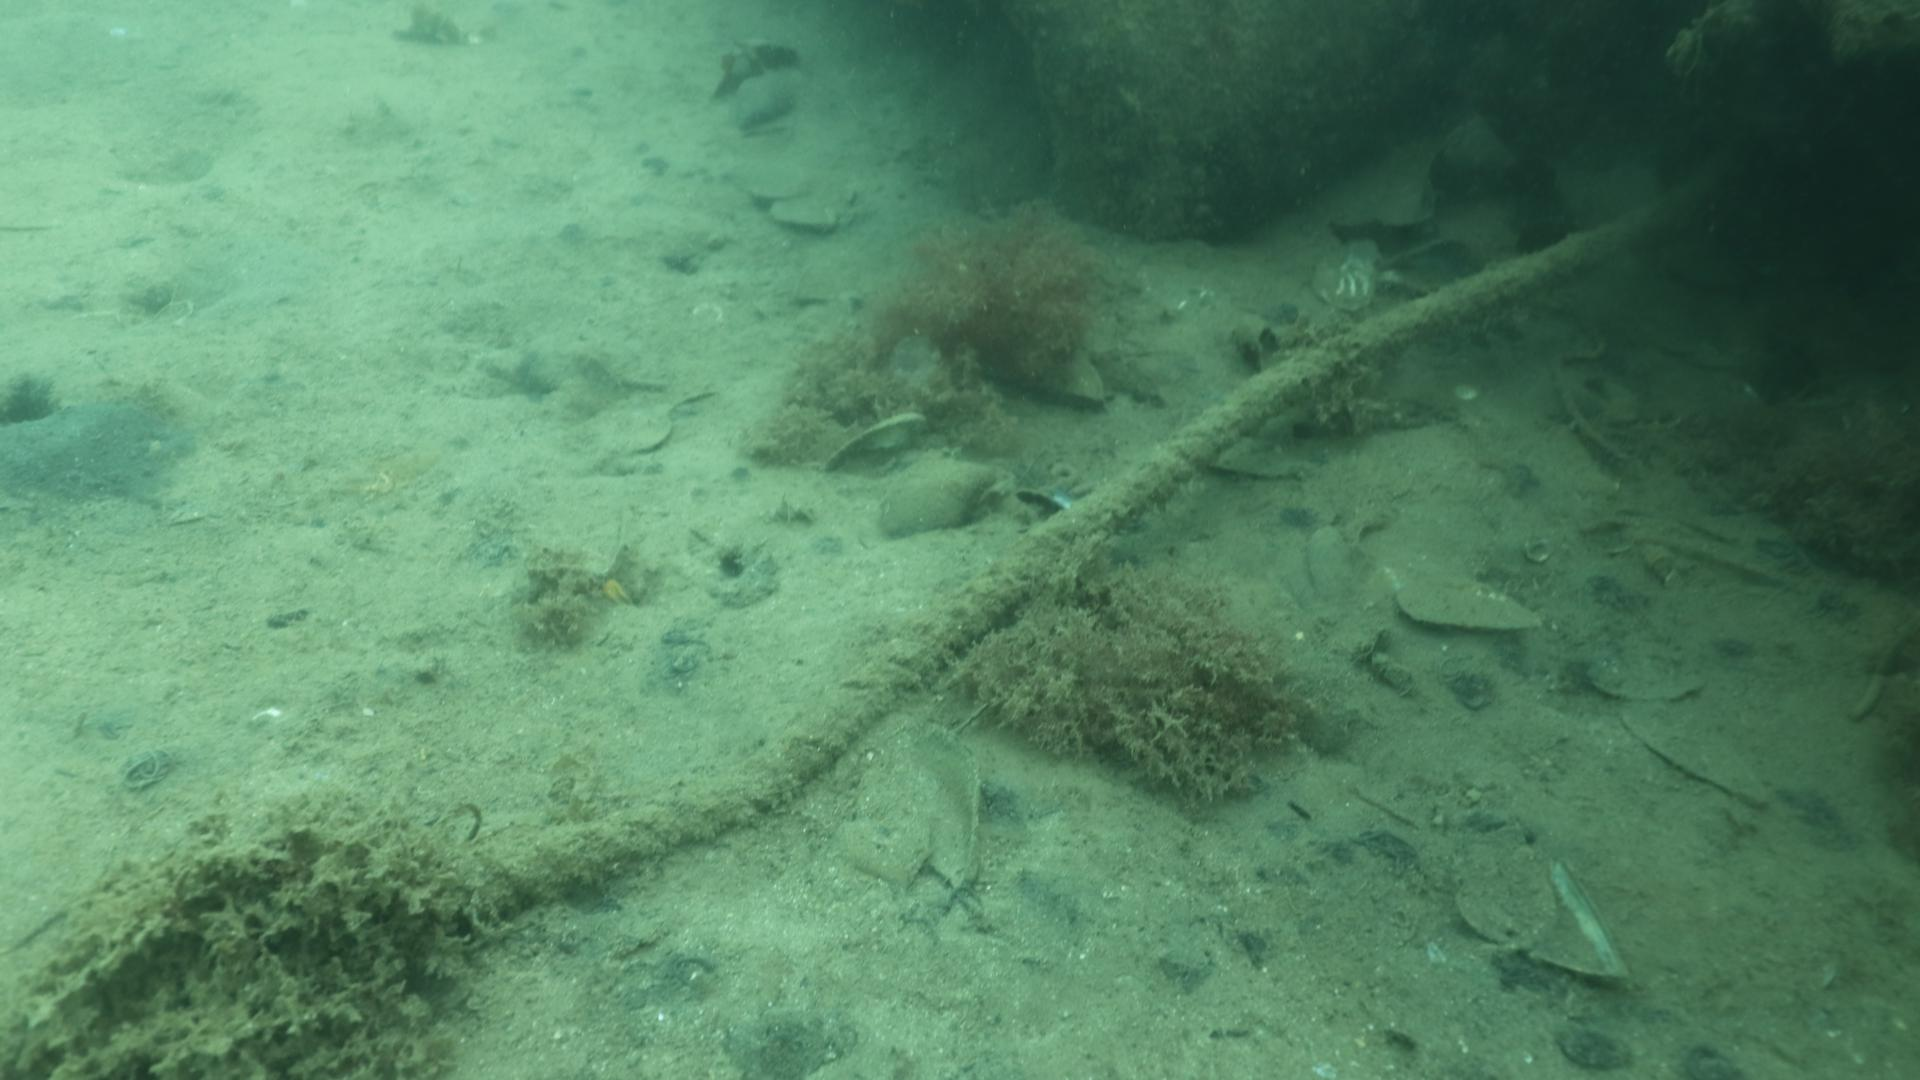rope: (451, 227, 1630, 928)
